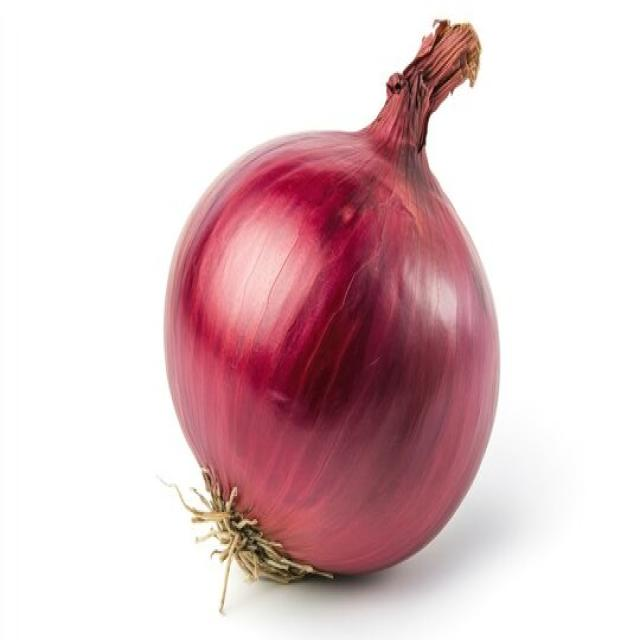Onion: (160, 16, 500, 613)
